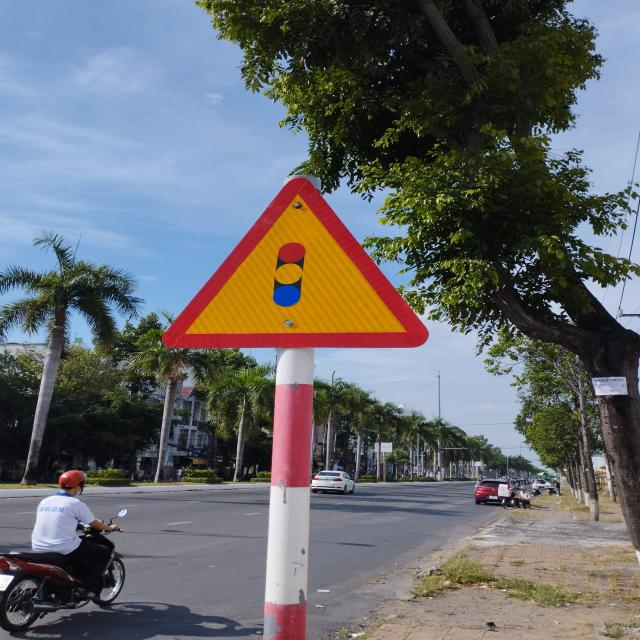Duong_Co_Go_Giam_Toc: (160, 176, 428, 350)
